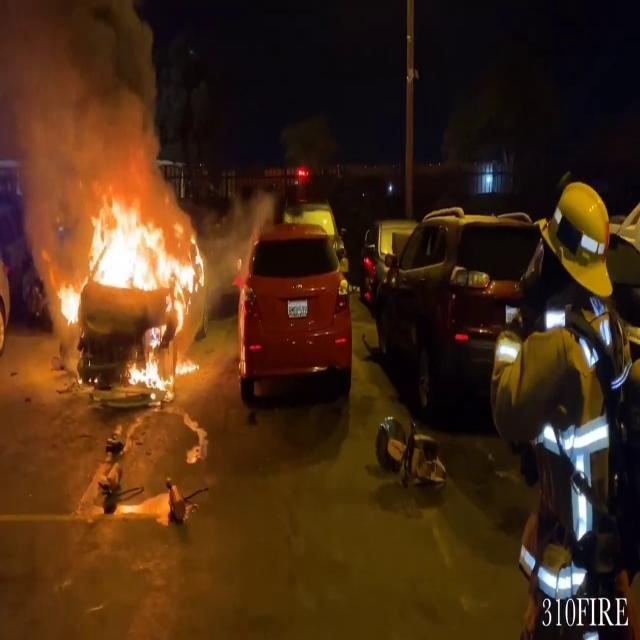Fire: (52, 188, 208, 385)
Smoke: (0, 1, 176, 211)
